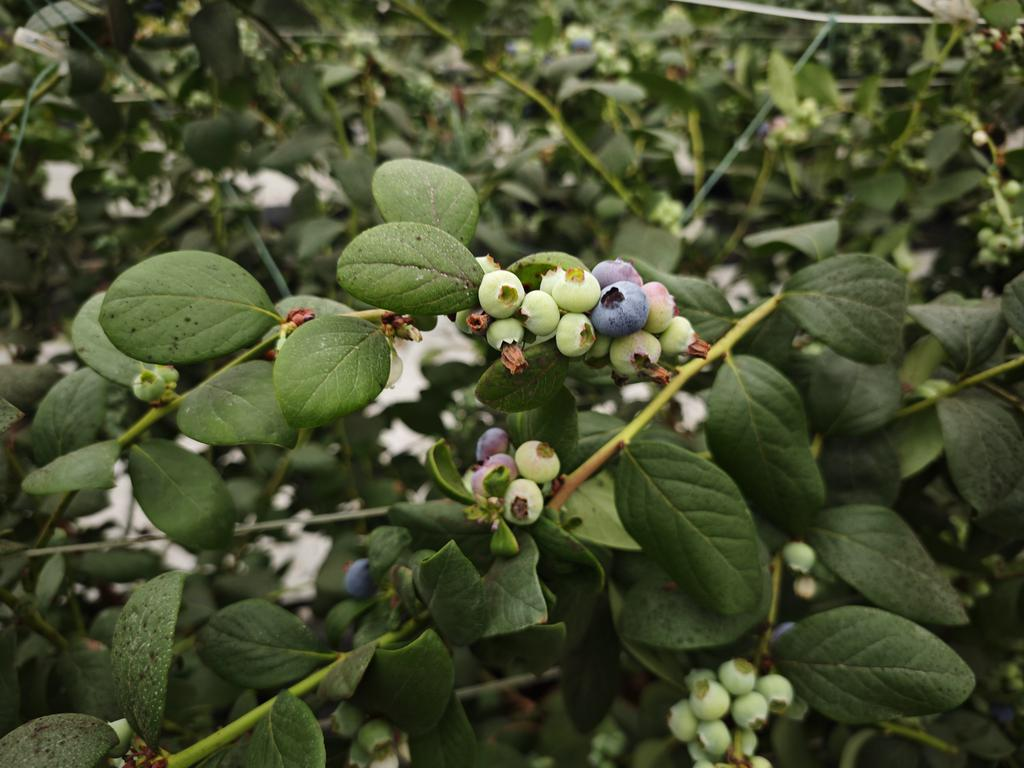RipeBlueBerry: (591, 279, 652, 337)
UnripeBlueBerry: (478, 269, 526, 319), (552, 266, 602, 312), (502, 477, 545, 526)
